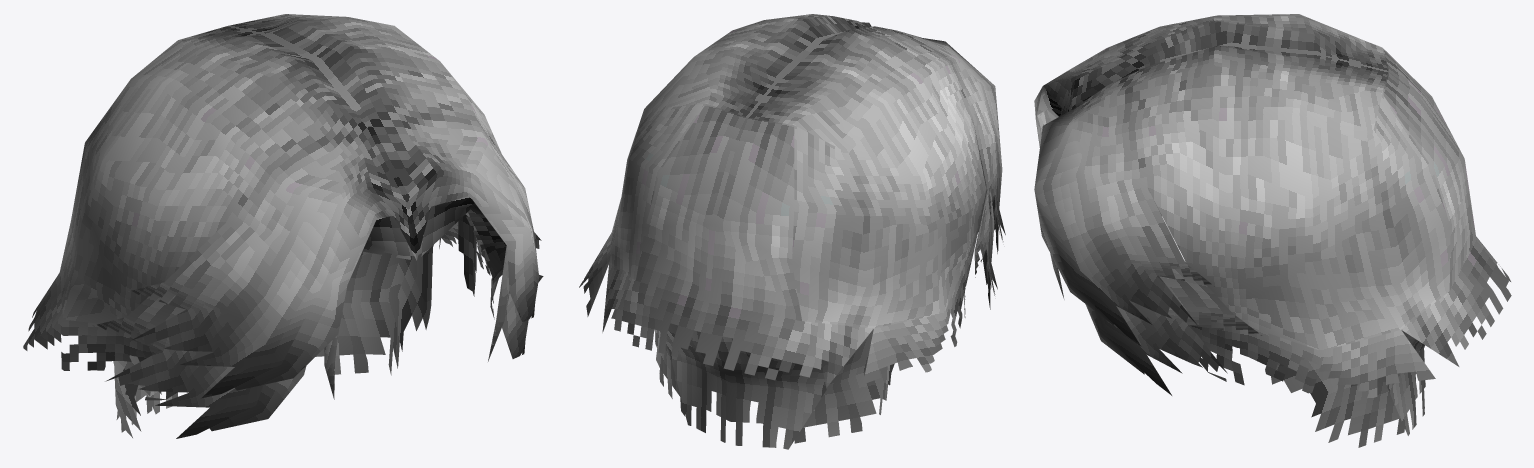
Rendered from m_hair014.obj.
3 renders of one model, left to right at view 1: azimuth 30°, elevation 25°; view 2: azimuth 150°, elevation 25°; view 3: azimuth 270°, elevation 25°, orthographic. The views are drawn at different scales.
Parts seen in each view (by area): view 1: editpl_m-0000-1837; view 2: editpl_m-0000-1837; view 3: editpl_m-0000-1837.
Part boxes in pixels (<box>): editpl_m-0000-1837: <box>23,14,543,438</box>; editpl_m-0000-1837: <box>579,14,1005,449</box>; editpl_m-0000-1837: <box>1034,14,1511,447</box>.
Size of the model in its own units: 22.38 by 21.5 by 24.62.
1 material, 1 textured.
